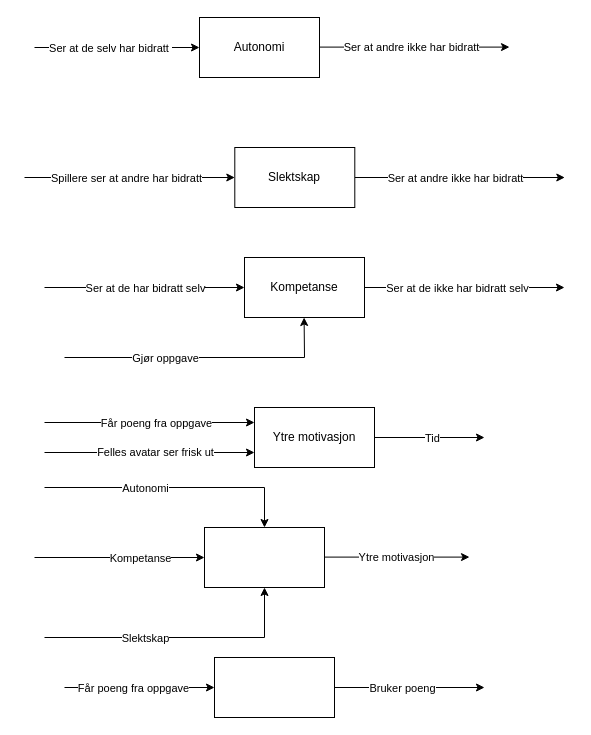
Image size: 591x735. Some labels were removed from this diagram. The shapes that lost their labels are listed below. From the top down, each one's centre as x and y in pixels, then its label:
At (x=264, y=557): "Indre motivasjon".
At (x=274, y=687): "Poeng".
